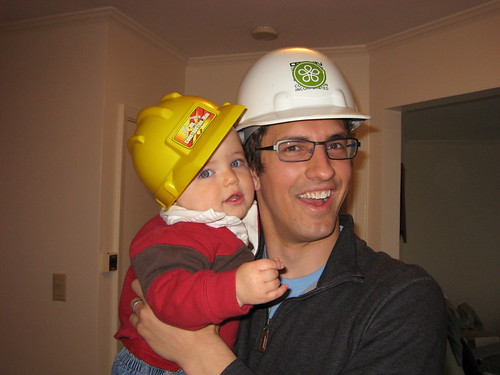person hardhat: (228, 46, 461, 371), (109, 92, 275, 366)
